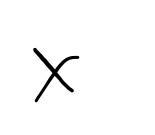mult: (33, 47, 77, 104)
